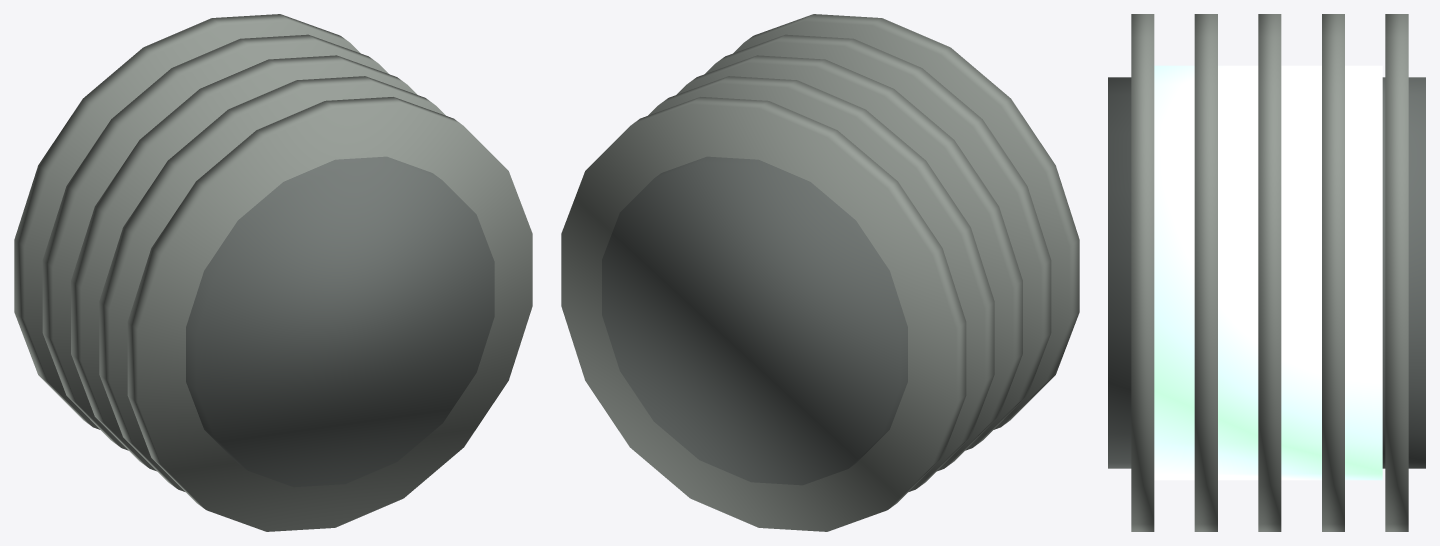
Rendered from part_chladic_pl.glb.
3 views of the same model, side by side, from view 1: azimuth 30°, elevation 25°; view 2: azimuth 150°, elevation 25°; view 3: azimuth 270°, elevation 25° (orthographic). The views are drawn at different scales.
Parts seen in each view (by area): view 1: Chladic_pl; view 2: Chladic_pl; view 3: Chladic_pl.
Boxes of the visible parts, x1,y1,x2,y2 form: Chladic_pl: (14, 14, 532, 531); Chladic_pl: (561, 14, 1079, 531); Chladic_pl: (1108, 14, 1425, 531).
Size of the model in its own units: 0.0886 by 0.09 by 0.055.
